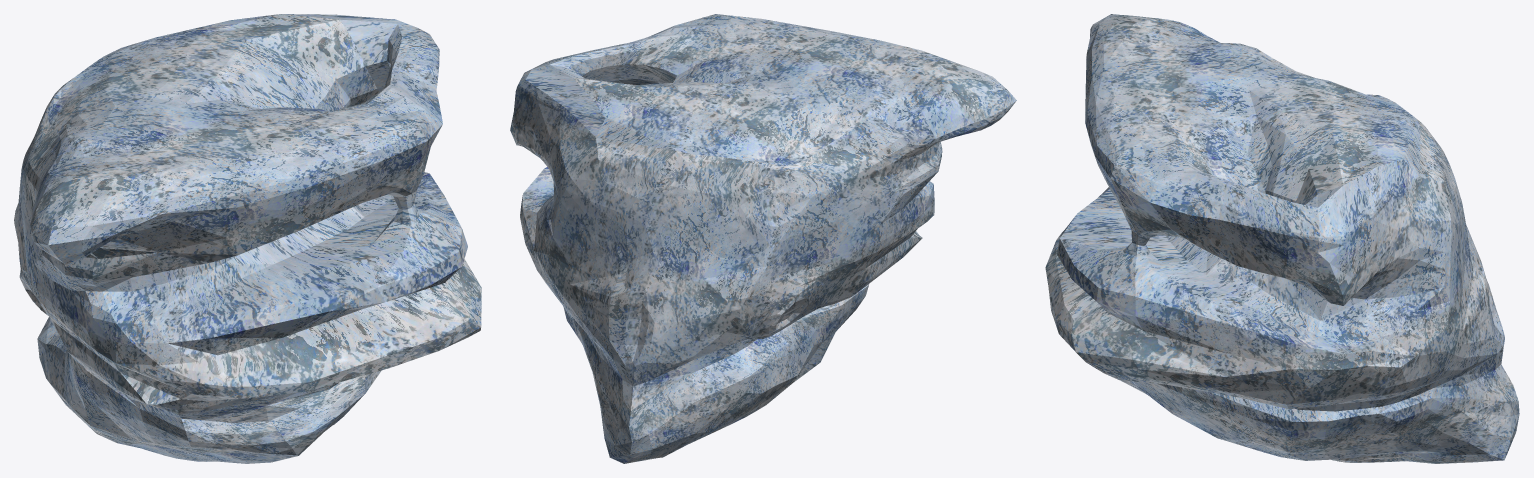
File: planetoid_ice_s01_l1.fbx
The picture shows the model from 3 angles, left to right: view 1: azimuth 30°, elevation 25°; view 2: azimuth 150°, elevation 25°; view 3: azimuth 270°, elevation 25°; orthographic projection. The views are drawn at different scales.
Parts seen in each view (by area): view 1: mesh_node; view 2: mesh_node; view 3: mesh_node.
Boxes of the visible parts, x1=… form: mesh_node: x1=14, y1=14, x2=481, y2=463; mesh_node: x1=510, y1=14, x2=1016, y2=463; mesh_node: x1=1045, y1=14, x2=1519, y2=463.
Size of the model in its own units: 580 by 446 by 534.
Materials: 1 (1 with a texture image).
